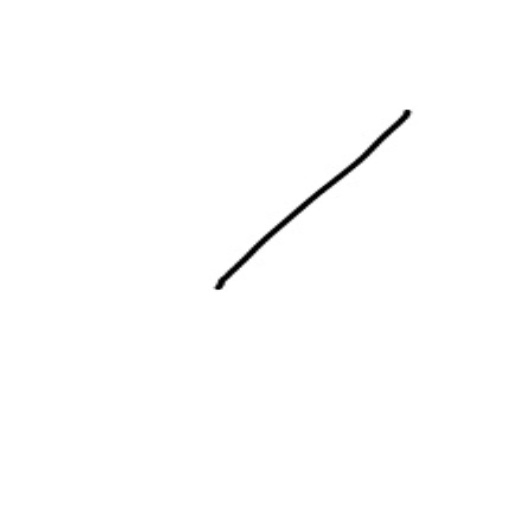line: (205, 103, 420, 297)
